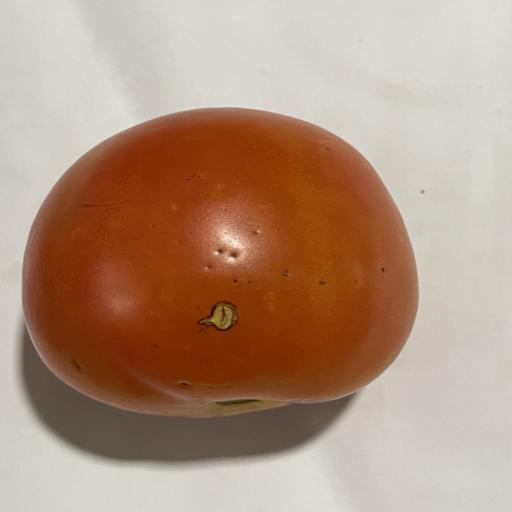ripe: (23, 108, 418, 417)
